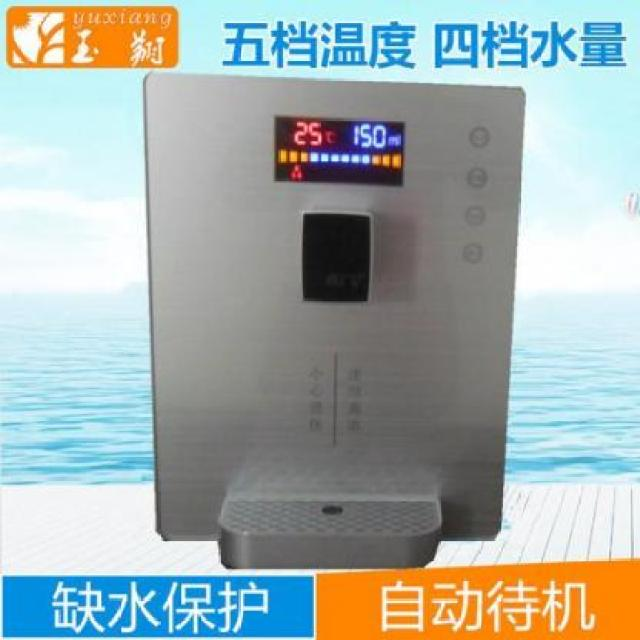cooler: (143, 65, 532, 572)
